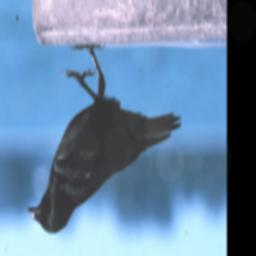Crow: (26, 41, 184, 240)
